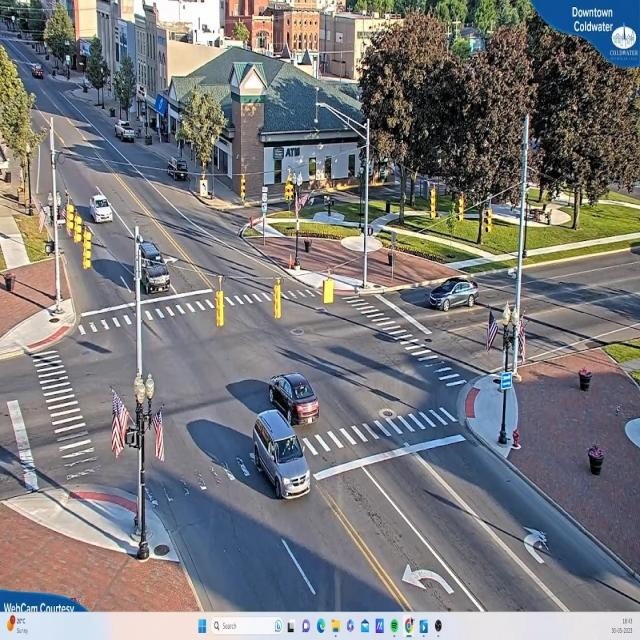car: (252, 412, 313, 499), (268, 374, 319, 425), (133, 235, 174, 295), (430, 279, 480, 309), (90, 195, 114, 223), (117, 122, 137, 145), (31, 64, 43, 78)
